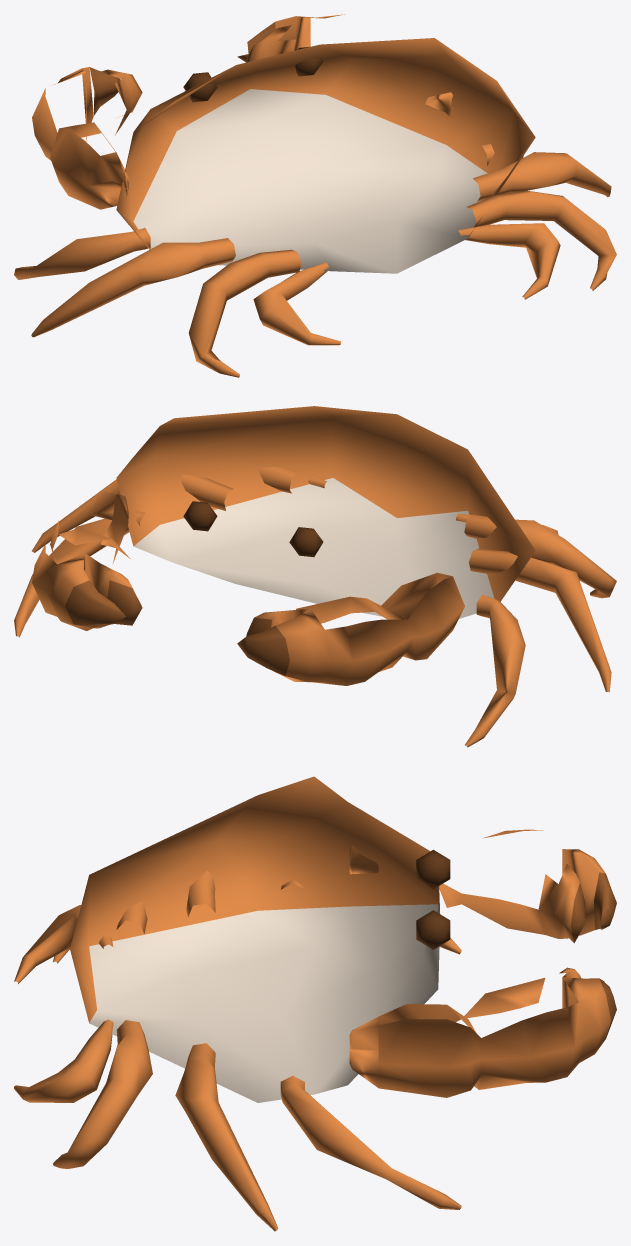
The model's file is animals-crab-048.glb.
The picture shows the model from 3 angles, top to bottom: view 1: azimuth 30°, elevation 25°; view 2: azimuth 150°, elevation 25°; view 3: azimuth 270°, elevation 25°; orthographic projection. The views are drawn at different scales.
Parts seen in each view (by area): view 1: Crab.1; view 2: Crab.1; view 3: Crab.1.
Boxes of the visible parts, <box> form: Crab.1: <box>14,14,616,377</box>; Crab.1: <box>14,406,616,747</box>; Crab.1: <box>14,776,616,1231</box>.
Bounding box in the file's own units: 780 × 273 × 602.
